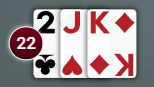2: (34, 10, 58, 36)
j: (61, 9, 85, 36)
k: (87, 8, 113, 37)
